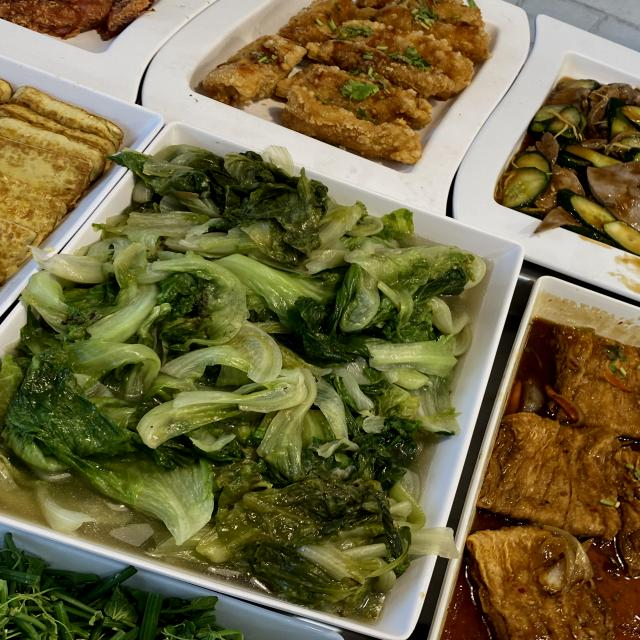Fushan-lettuce: (71, 264, 411, 485)
